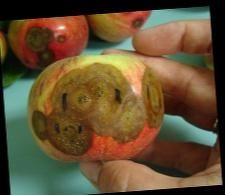rotten apple: (22, 53, 167, 165), (9, 18, 89, 68), (89, 13, 153, 44)
